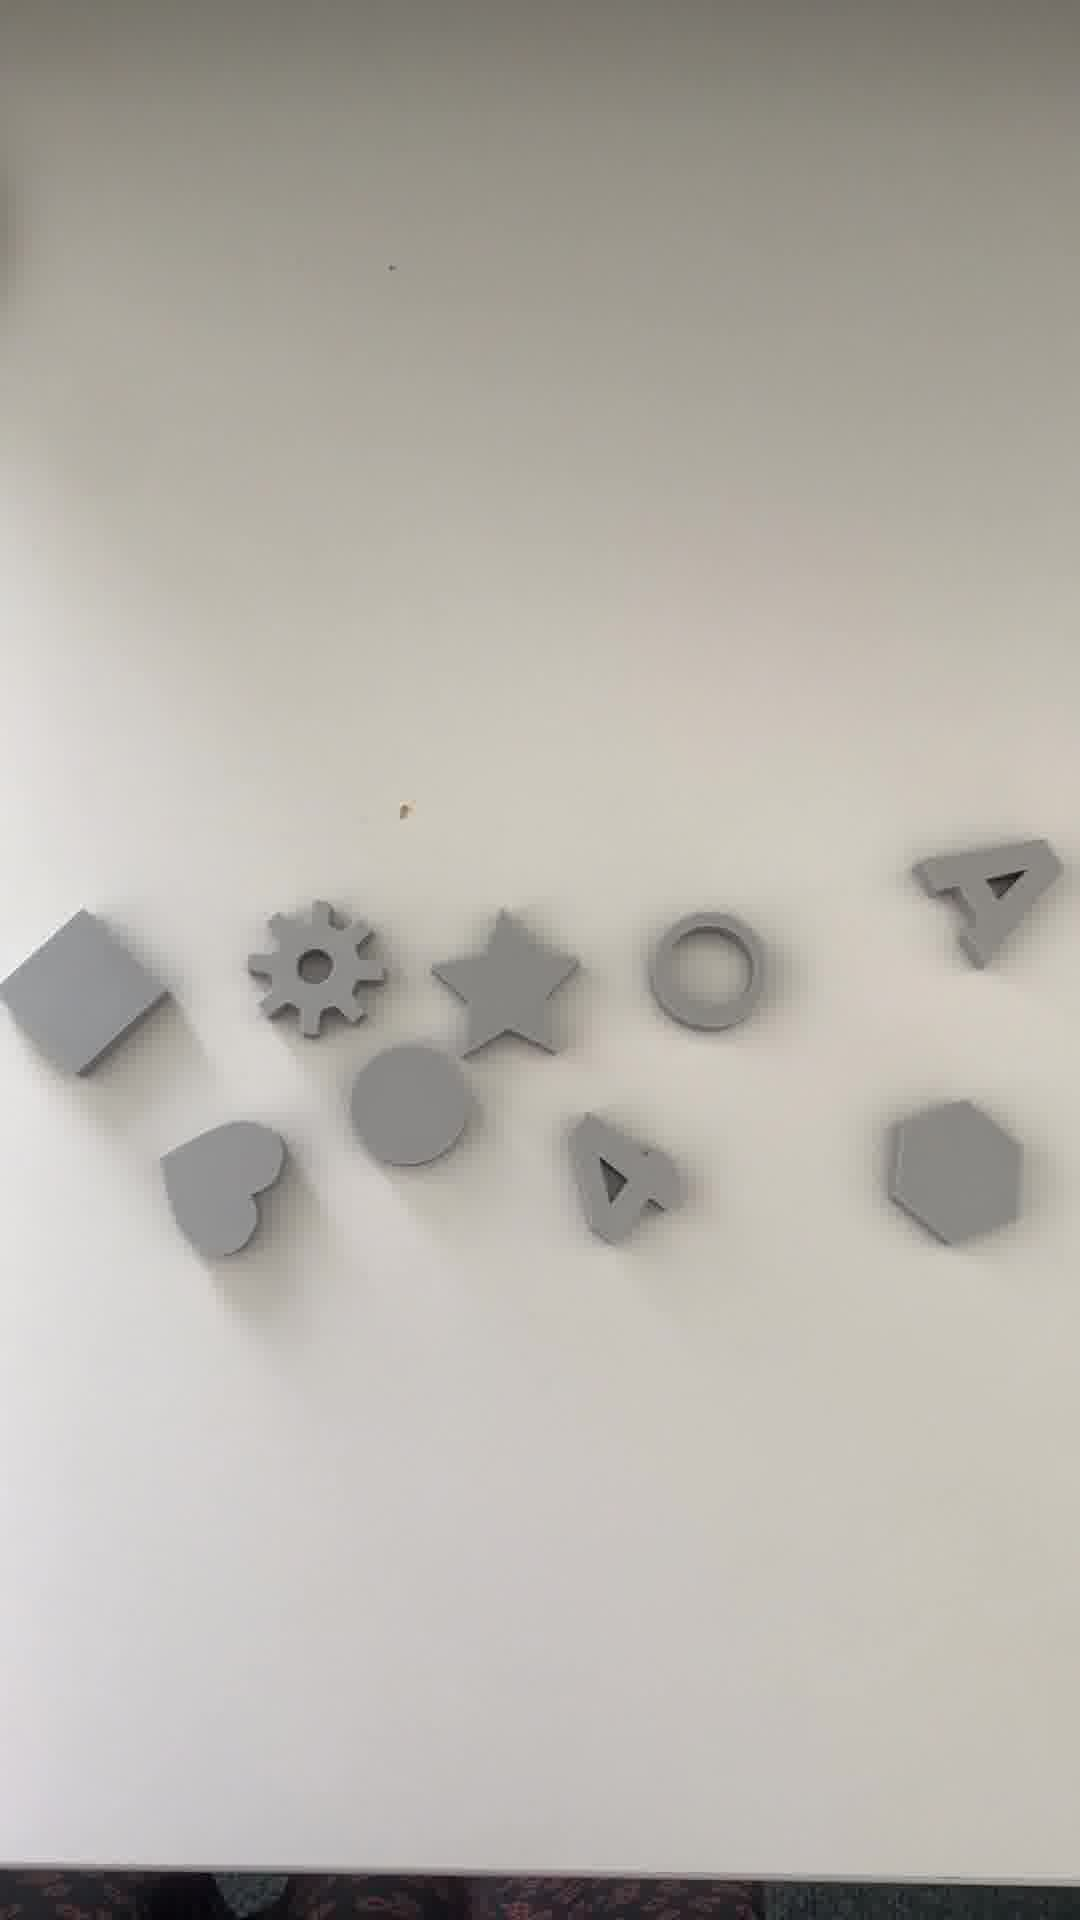Gray A-letter: (920, 832, 1062, 965)
Gray circle: (342, 1040, 473, 1175)
Gray four: (553, 1118, 698, 1261)
Gray gear: (239, 889, 396, 1048)
Gray heart: (156, 1114, 291, 1275)
Gray hexagon: (882, 1101, 1025, 1251)
Gray ring: (641, 909, 770, 1046)
Gray square: (7, 897, 174, 1087)
Gray star: (435, 914, 580, 1063)
